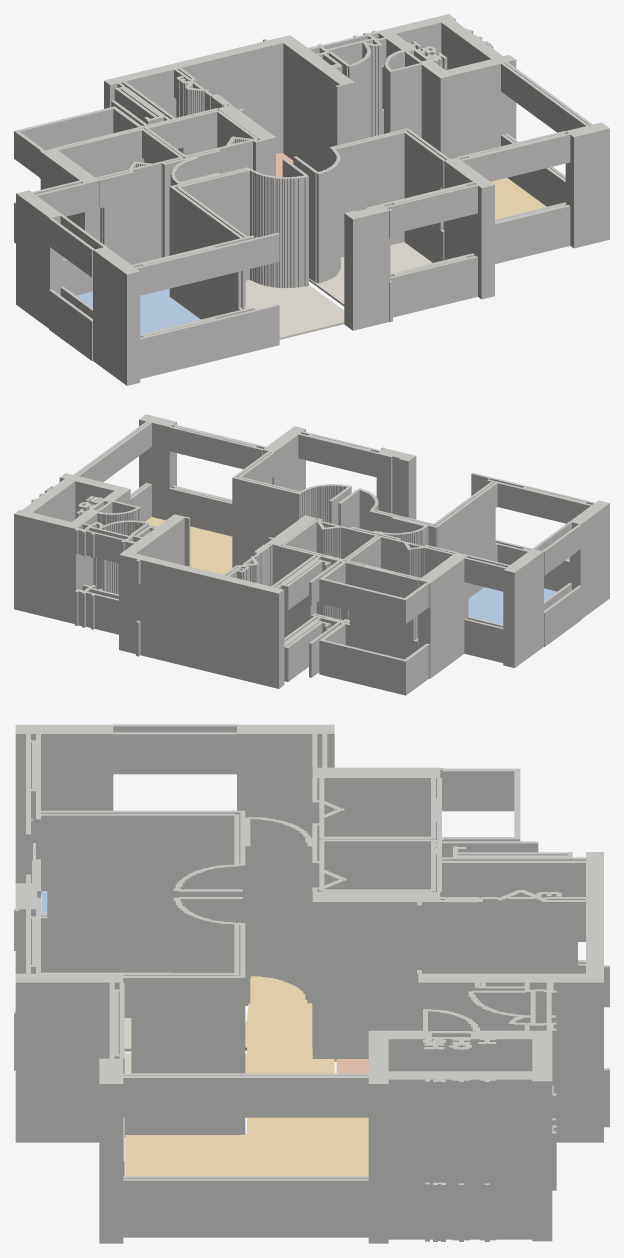
The picture shows the model from 3 angles, top to bottom: view 1: azimuth 30°, elevation 25°; view 2: azimuth 150°, elevation 25°; view 3: azimuth 270°, elevation 25°; orthographic projection. The views are drawn at different scales.
Parts seen in each view (by area): view 1: walls, room:other:10, room:bedroom:3, room:other:11, room:living:2; view 2: walls, room:living:2, room:bedroom:3; view 3: walls, room:living:2.
Part boxes in pixels (left/top/right/bottom): walls: left=14, top=14, right=609, bottom=385; room:other:10: left=245, top=280, right=344, bottom=339; room:bedroom:3: left=76, top=288, right=200, bottom=334; room:other:11: left=309, top=242, right=432, bottom=306; room:living:2: left=491, top=178, right=546, bottom=219; walls: left=14, top=414, right=609, bottom=695; room:living:2: left=145, top=517, right=232, bottom=574; room:bedroom:3: left=468, top=587, right=556, bottom=624; walls: left=14, top=724, right=609, bottom=1243; room:living:2: left=125, top=976, right=368, bottom=1175.
Bounding box in the file's own units: 13.51 × 2.8 × 9.46.
